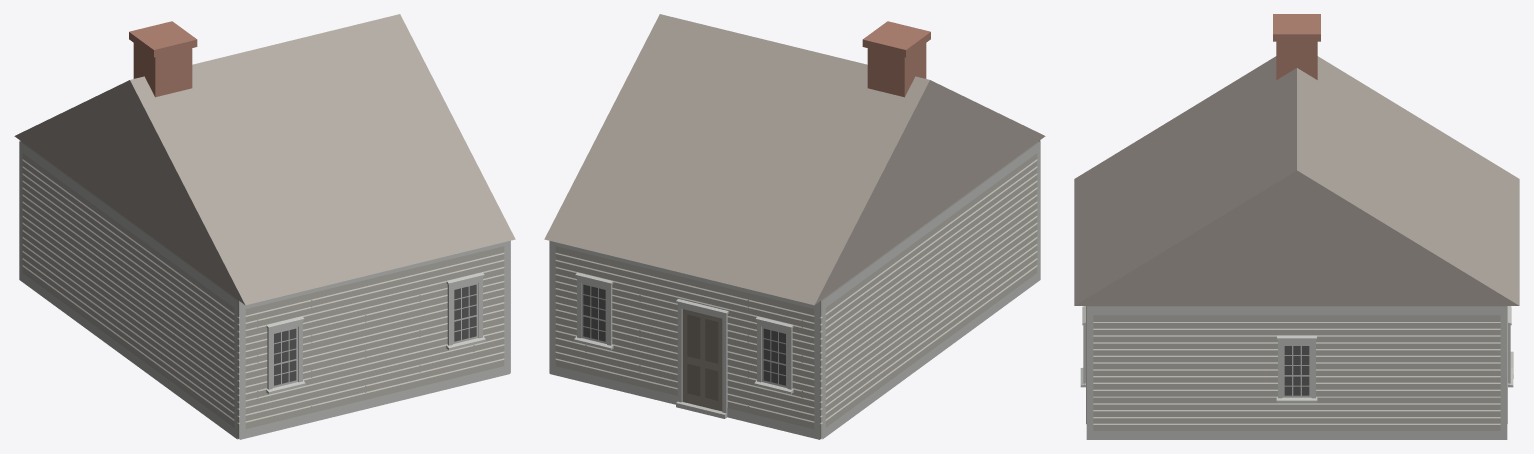
File: recon_1835_west_003__inferred_1835.glb
3 views of the same model, side by side, from view 1: azimuth 30°, elevation 25°; view 2: azimuth 150°, elevation 25°; view 3: azimuth 270°, elevation 25° (orthographic). The views are drawn at different scales.
Visible parts, largest first — view 1: recon_1835_west_003__inferred_1835; view 2: recon_1835_west_003__inferred_1835; view 3: recon_1835_west_003__inferred_1835.
Boxes of the visible parts, x1,y1,x2,y2 form: recon_1835_west_003__inferred_1835: (14,14,515,439); recon_1835_west_003__inferred_1835: (544,14,1045,439); recon_1835_west_003__inferred_1835: (1074,14,1519,439).
Size of the model in its own units: 6.25 by 6.8 by 9.03.
